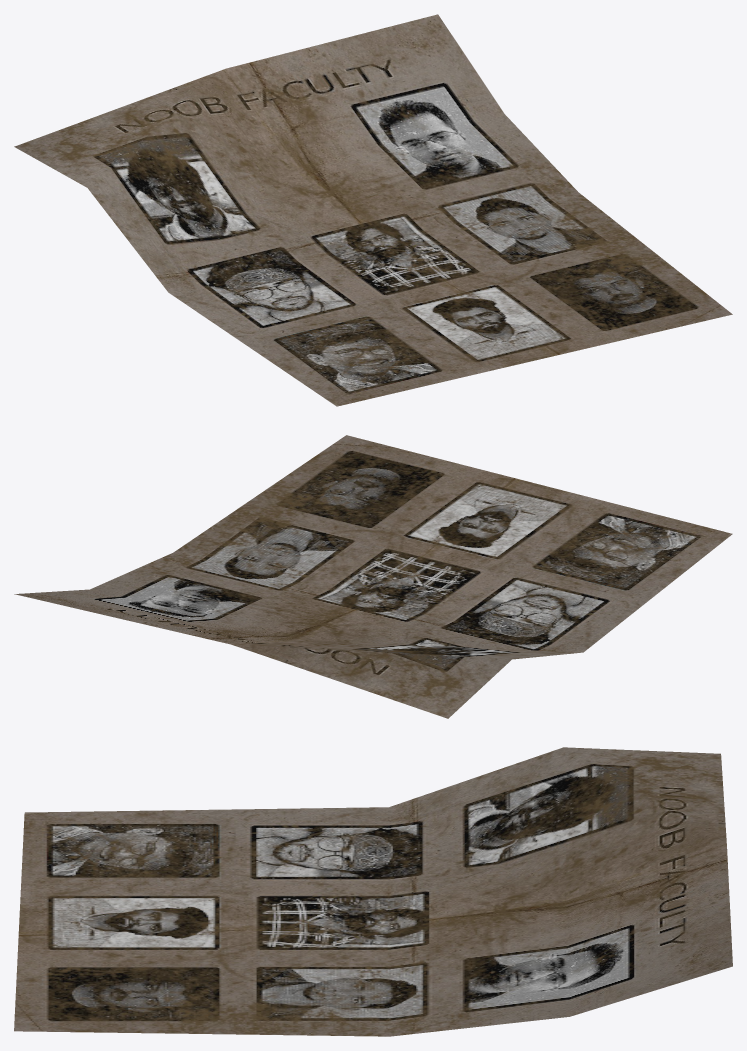
File: Faculty.FBX
The picture shows the model from 3 angles, top to bottom: view 1: azimuth 30°, elevation 25°; view 2: azimuth 150°, elevation 25°; view 3: azimuth 270°, elevation 25°; orthographic projection. The views are drawn at different scales.
Visible parts, largest first — view 1: Faculty; view 2: Faculty; view 3: Faculty.
Boxes of the visible parts, x1,y1,x2,y2 form: Faculty: (14,14,732,406); Faculty: (14,435,732,718); Faculty: (14,747,732,1036).
Bounding box in the file's own units: 29.32 × 4.3 × 37.12.
